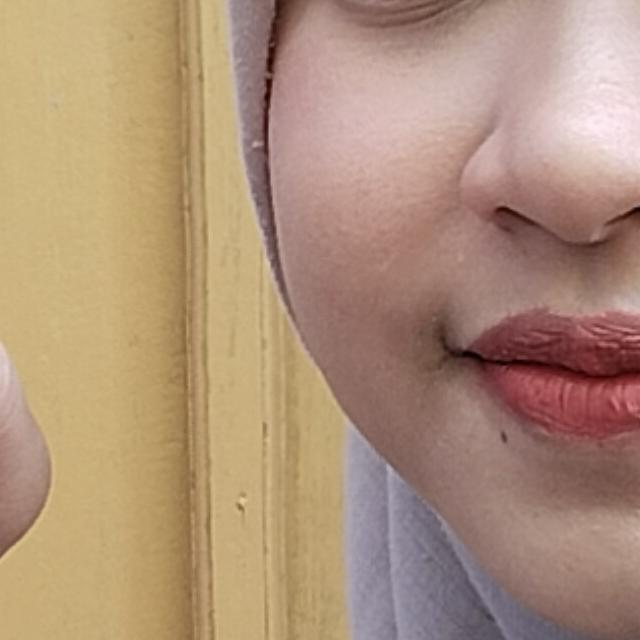baik: (0, 68, 400, 640)
